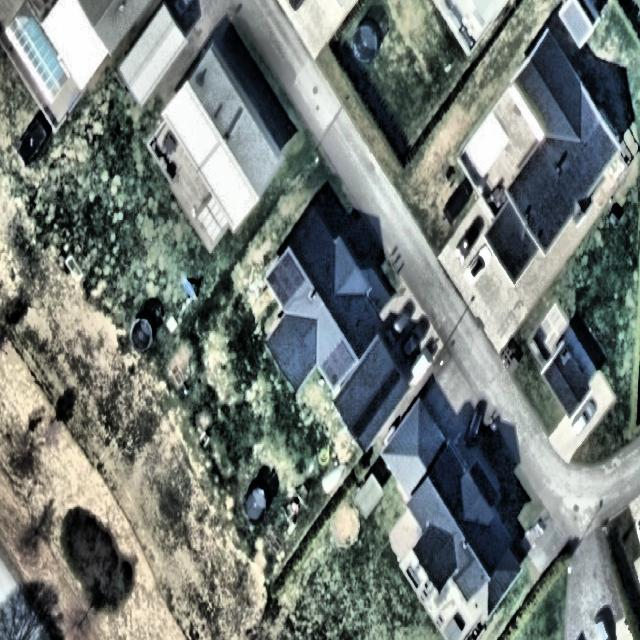roof_pv: (268, 249, 308, 306), (322, 341, 352, 385)
